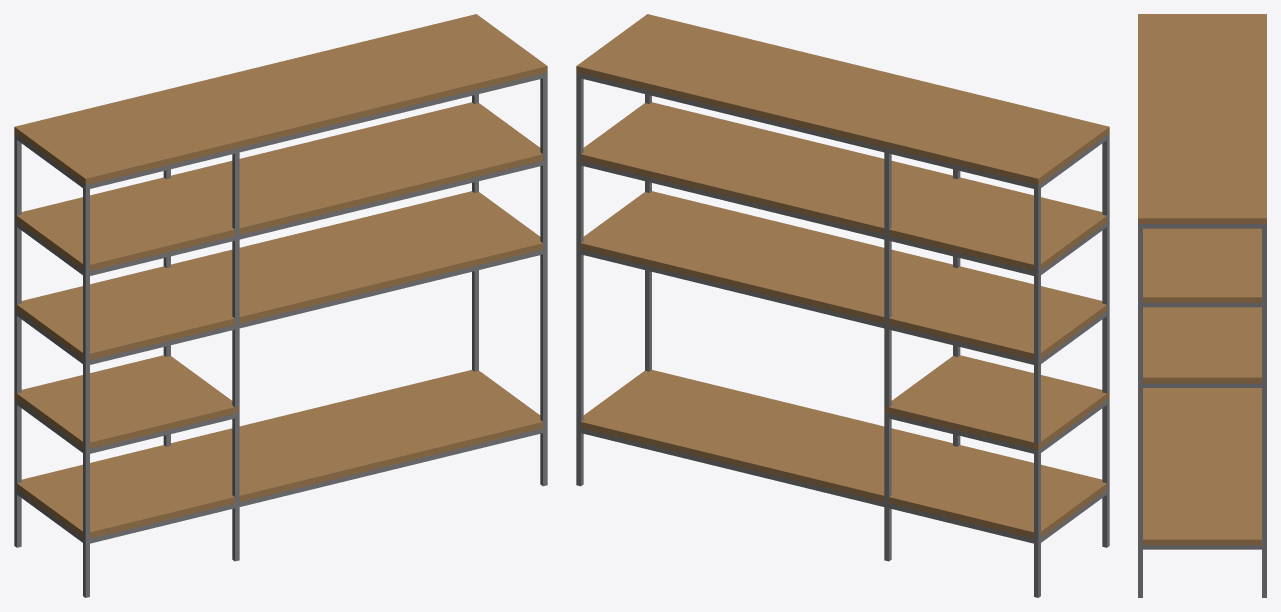
The model's file is bookshelf.gltf.
3 views of the same model, side by side, from view 1: azimuth 30°, elevation 25°; view 2: azimuth 150°, elevation 25°; view 3: azimuth 270°, elevation 25° (orthographic). The views are drawn at different scales.
Parts seen in each view (by area): view 1: Node101, Node102, Node196, Node120, Node272, Node202, Node278, Node126, Node341, Node342, Node117, Node269 (+31 smaller); view 2: Node101, Node102, Node196, Node120, Node272, Node202, Node126, Node278, Node341, Node342, Node269, Node117 (+31 smaller); view 3: Node102, Node101, Node272, Node278, Node196, Node120, Node202, Node126, Node269, Node72, Node359, Node360 (+23 smaller).
Boxes of the visible parts, <box> form: Node101: <box>14,66,545,178</box>; Node102: <box>15,14,546,126</box>; Node196: <box>172,193,539,266</box>; Node120: <box>171,104,539,178</box>; Node272: <box>172,372,539,445</box>; Node202: <box>171,241,538,314</box>; Node278: <box>171,420,538,492</box>; Node126: <box>171,152,539,225</box>; Node341: <box>21,355,232,405</box>; Node342: <box>17,392,234,442</box>; Node117: <box>22,179,231,227</box>; Node269: <box>22,447,231,494</box>; Node101: <box>648,14,1109,178</box>; Node102: <box>577,14,1037,178</box>; Node196: <box>584,193,884,314</box>; Node120: <box>584,104,884,225</box>; Node272: <box>584,372,884,492</box>; Node202: <box>650,193,952,313</box>; Node126: <box>650,104,952,224</box>; Node278: <box>650,372,952,491</box>; Node341: <box>889,356,1033,442</box>; Node342: <box>958,355,1106,441</box>; Node269: <box>892,447,1033,529</box>; Node117: <box>892,179,1033,261</box>; Node102: <box>1138,14,1266,218</box>; Node101: <box>1138,14,1266,217</box>; Node272: <box>1143,404,1261,537</box>; Node278: <box>1143,403,1261,536</box>; Node196: <box>1143,307,1261,375</box>; Node120: <box>1143,228,1261,295</box>; Node202: <box>1143,307,1203,374</box>; Node126: <box>1143,228,1201,294</box>; Node269: <box>1143,388,1261,401</box>; Node72: <box>1138,224,1142,593</box>; Node359: <box>1262,228,1266,597</box>; Node360: <box>1262,224,1266,588</box>.
Bounding box in the file's own units: 59.06 × 51.18 × 15.75.
